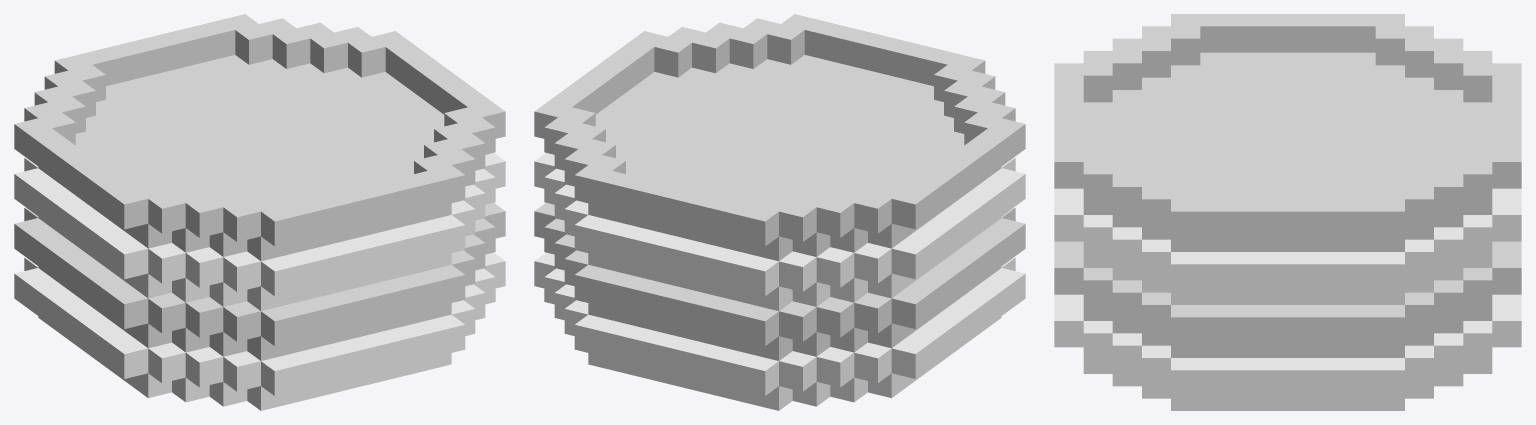
The model's file is PlateRack.dae.
3 views of the same model, side by side, from view 1: azimuth 30°, elevation 25°; view 2: azimuth 150°, elevation 25°; view 3: azimuth 270°, elevation 25° (orthographic). The views are drawn at different scales.
Visible parts, largest first — view 1: PlateRack; view 2: PlateRack; view 3: PlateRack.
Part boxes in pixels (box(x1,y1,x2,y2)): PlateRack: box(14, 14, 505, 410); PlateRack: box(534, 14, 1025, 410); PlateRack: box(1054, 14, 1521, 410).
Size of the model in its own units: 16 by 8 by 16.
Materials: 1 (1 with a texture image).
